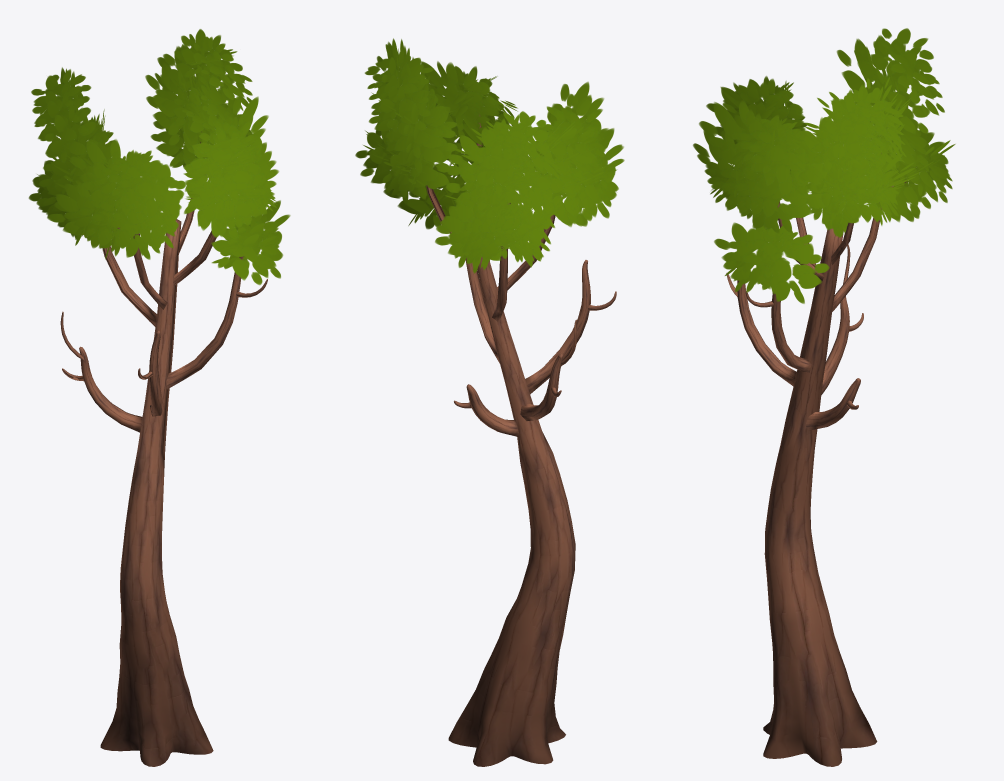
File: mega-tree.glb
3 renders of one model, left to right at view 1: azimuth 30°, elevation 25°; view 2: azimuth 150°, elevation 25°; view 3: azimuth 270°, elevation 25°, orthographic. The views are drawn at different scales.
Visible parts, largest first — view 1: CommonTree_4; view 2: CommonTree_4; view 3: CommonTree_4.
Part boxes in pixels (bbox=[...]): CommonTree_4: bbox=[28, 29, 290, 766]; CommonTree_4: bbox=[355, 38, 624, 766]; CommonTree_4: bbox=[693, 28, 955, 766].
Size of the model in its own units: 3.83 by 9.44 by 3.76.
Materials: 2 (2 with a texture image).
